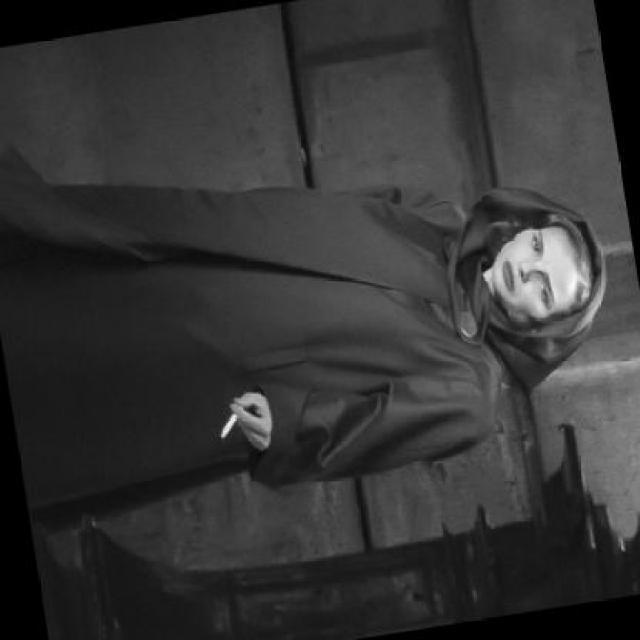smoke: (212, 386, 276, 442)
